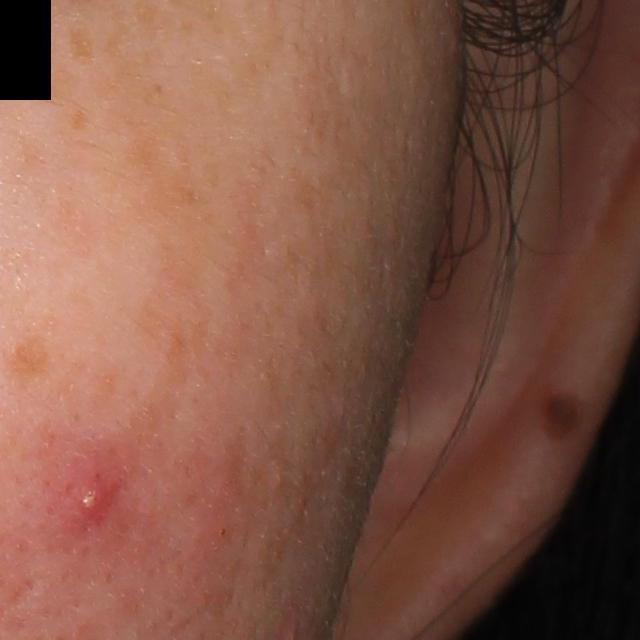melasma: (126, 302, 195, 440), (126, 119, 211, 211), (57, 192, 123, 256), (1, 331, 53, 379), (64, 22, 93, 66), (69, 109, 92, 135)
pustule: (63, 471, 119, 521)
